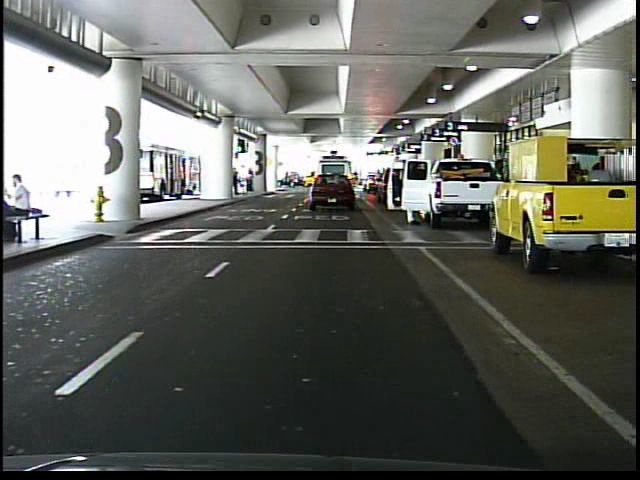person: (231, 163, 243, 198), (245, 166, 257, 194)
